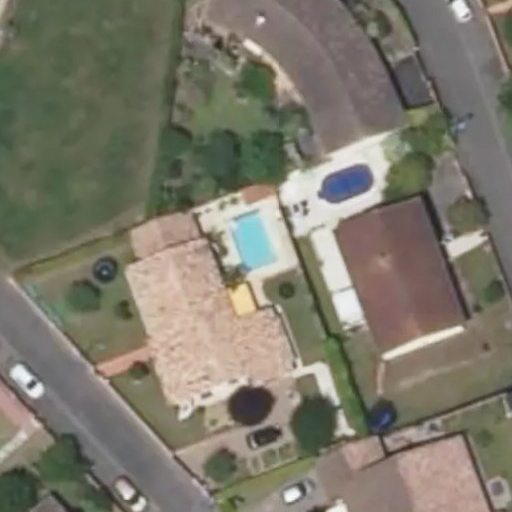pool: (228, 222, 283, 261)
